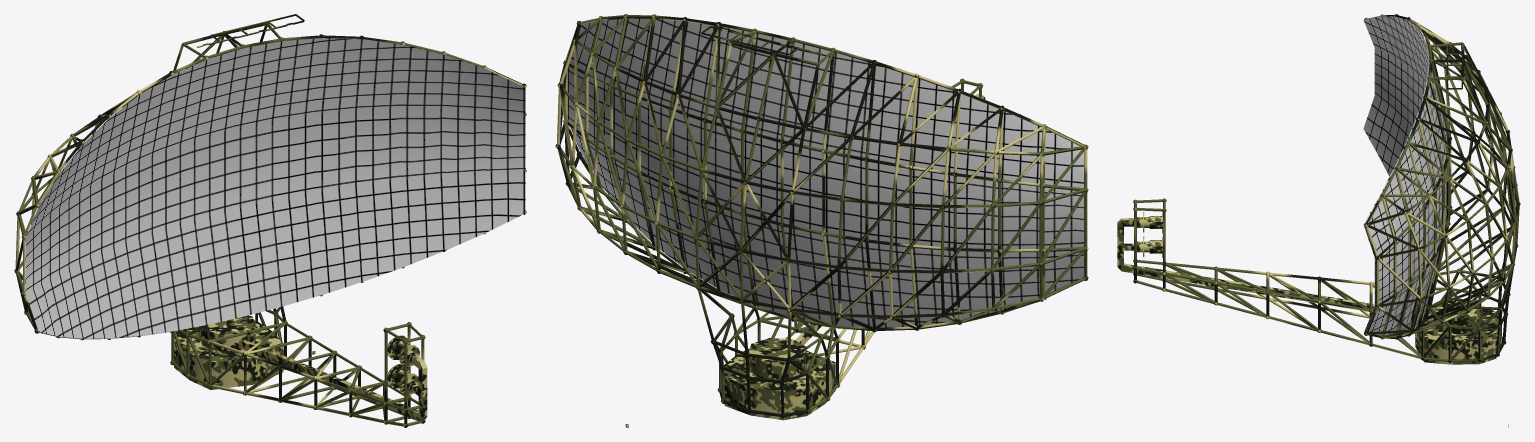
File: part_psr.fbx
3 views of the same model, side by side, from view 1: azimuth 30°, elevation 25°; view 2: azimuth 150°, elevation 25°; view 3: azimuth 270°, elevation 25° (orthographic). The views are drawn at different scales.
Visible parts, largest first — view 1: 3d66-Editable_Poly-20185282-001; view 2: 3d66-Editable_Poly-20185282-001; view 3: 3d66-Editable_Poly-20185282-001.
Boxes of the visible parts, bbox=[...] form: 3d66-Editable_Poly-20185282-001: bbox=[14, 14, 526, 427]; 3d66-Editable_Poly-20185282-001: bbox=[555, 14, 1088, 427]; 3d66-Editable_Poly-20185282-001: bbox=[1117, 14, 1520, 427].
Size of the model in its own units: 1022 by 718 by 820.
2 materials, 2 textured.
